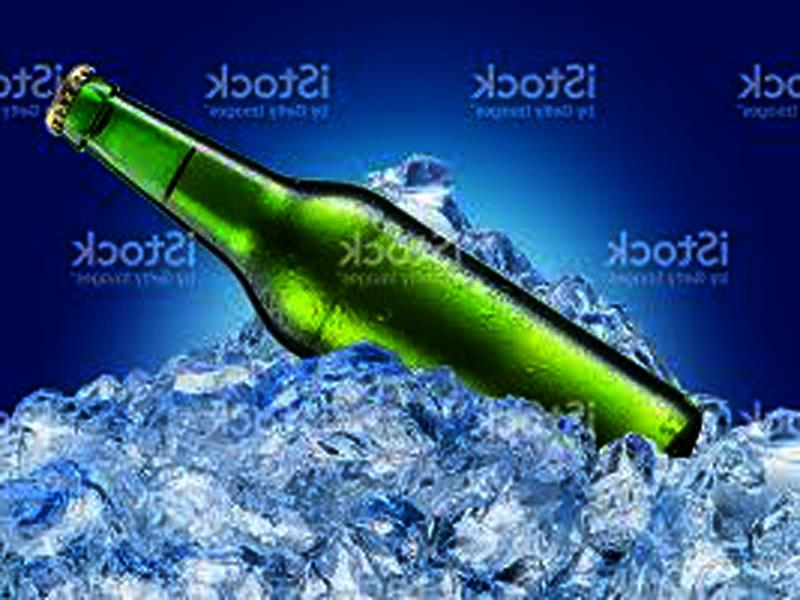Beer: (38, 60, 703, 457)
